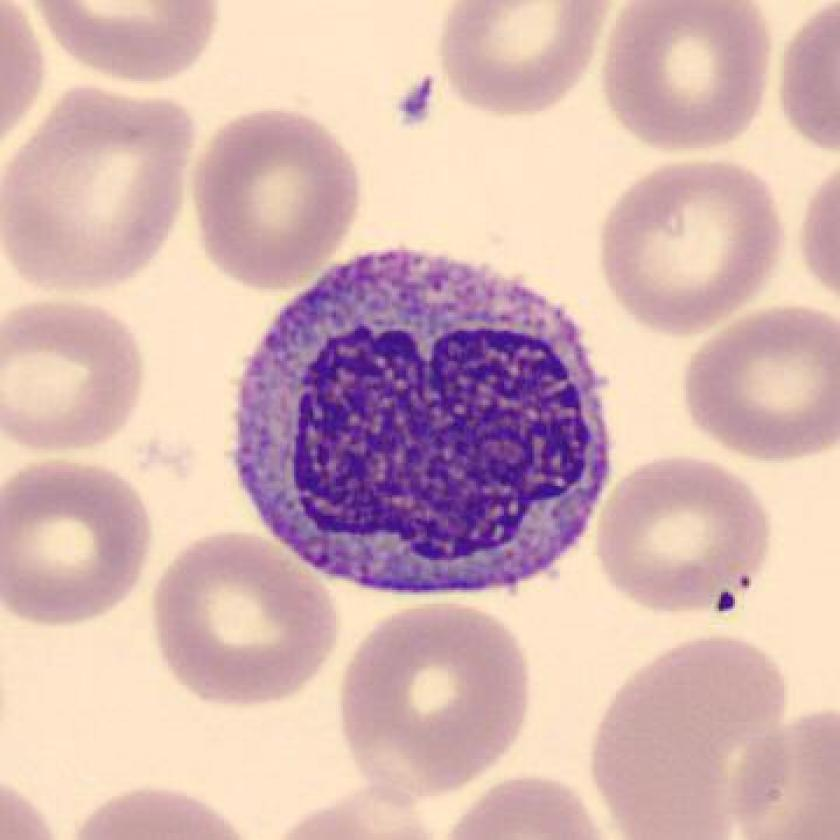monocyte: (209, 228, 643, 633)
